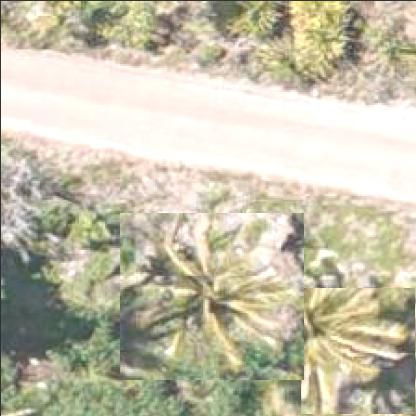coconut tree: (119, 212, 304, 380), (300, 287, 415, 414)
